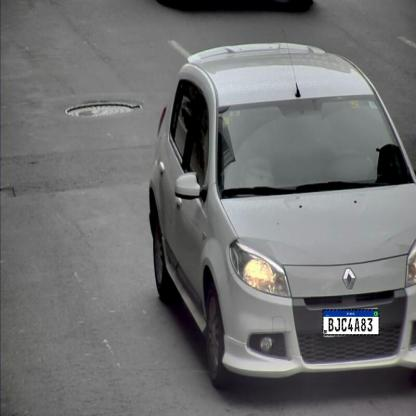PlacaM: (322, 309, 380, 336)
